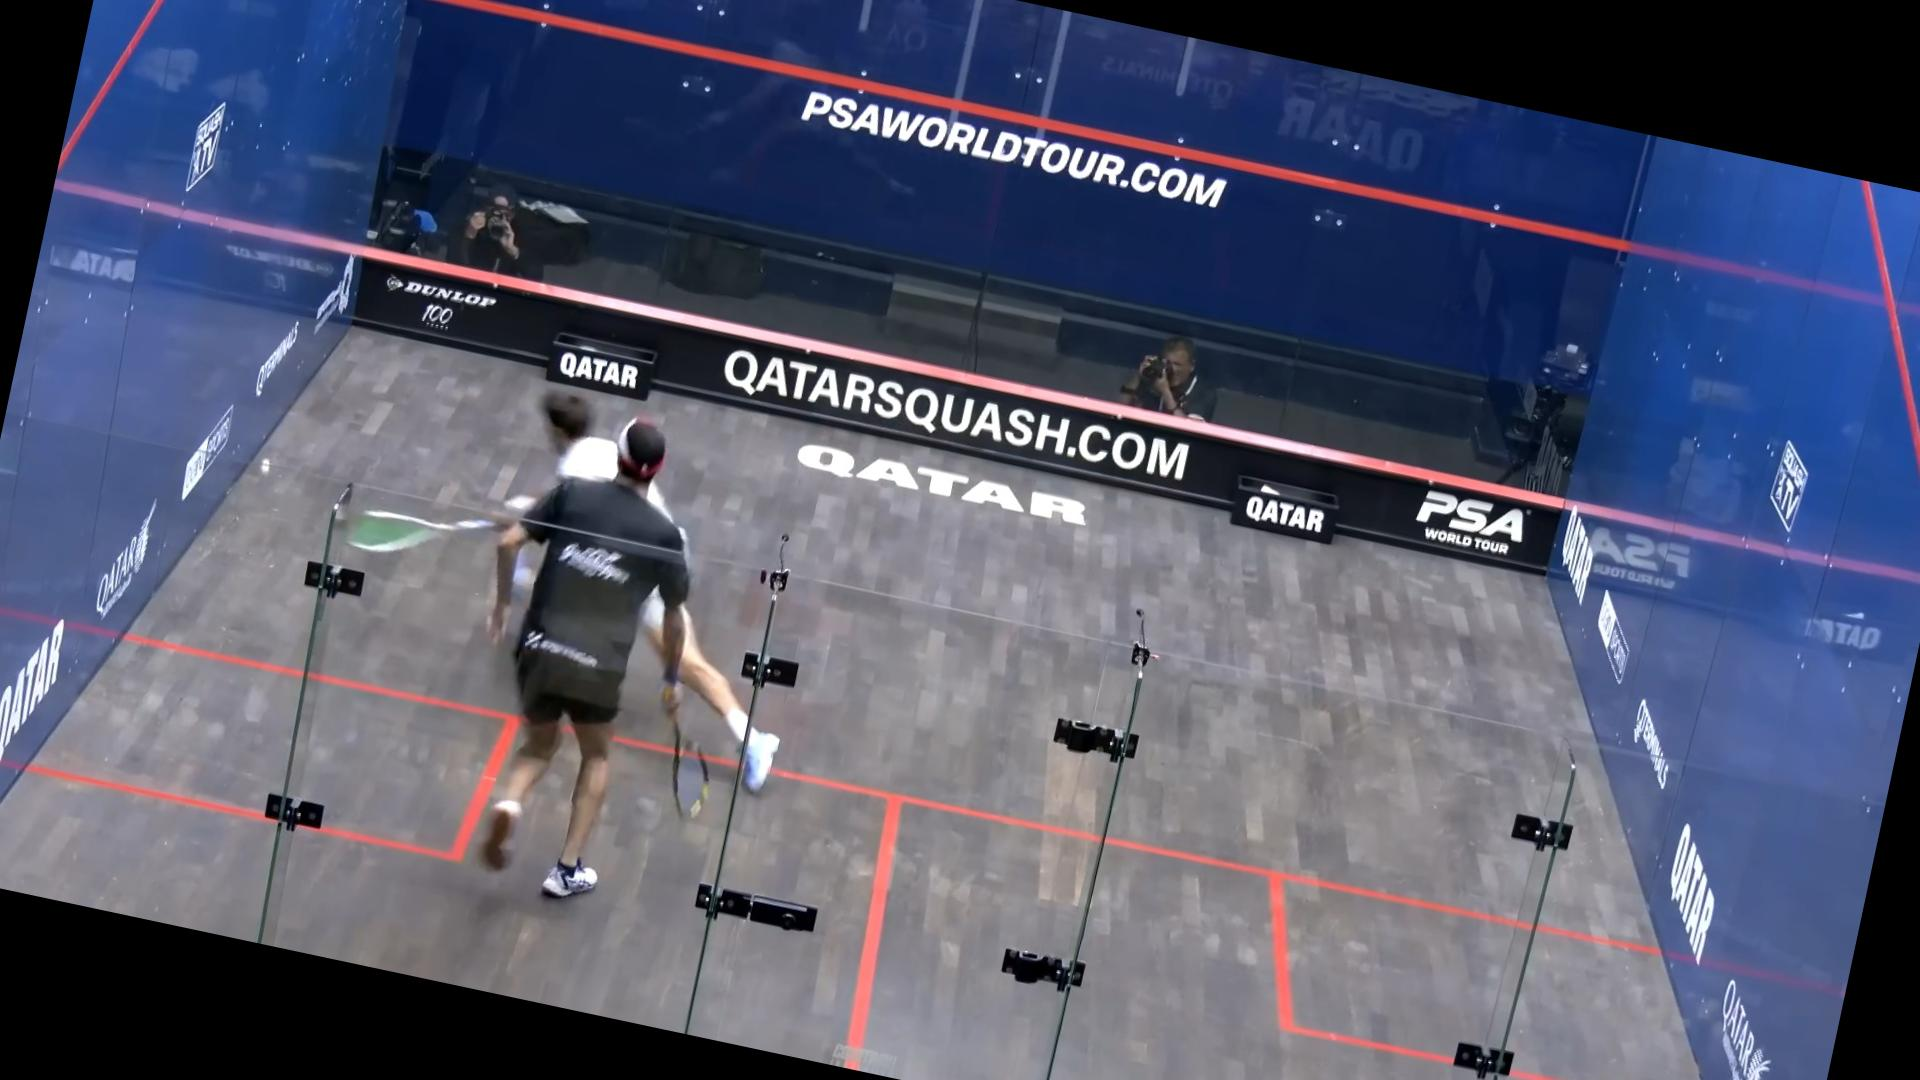Racket: (338, 493, 497, 599), (645, 705, 736, 829)
